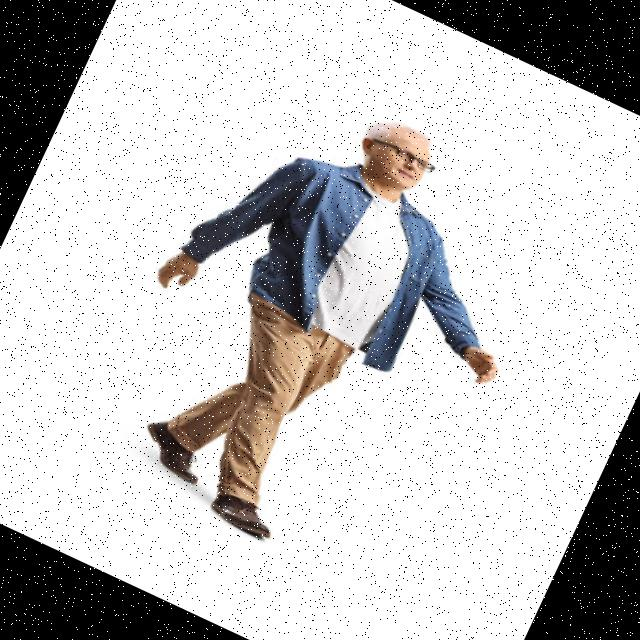Person: (73, 56, 574, 598)
